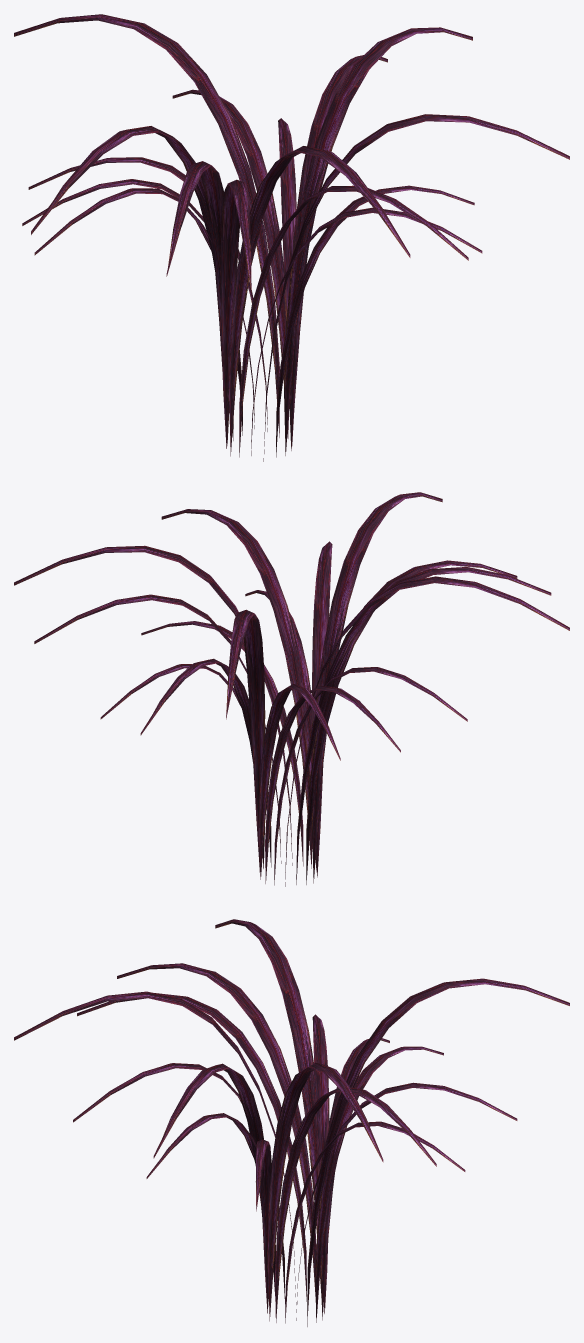
Rendered from finegrass_meadow_02.glb.
3 renders of one model, top to bottom at view 1: azimuth 30°, elevation 25°; view 2: azimuth 150°, elevation 25°; view 3: azimuth 270°, elevation 25°, orthographic. The views are drawn at different scales.
Parts seen in each view (by area): view 1: export; view 2: export; view 3: export.
Boxes of the visible parts, x1=… form: export: x1=14, y1=14, x2=569, y2=461; export: x1=14, y1=492, x2=569, y2=886; export: x1=14, y1=919, x2=569, y2=1326.
Size of the model in its own units: 1.51 by 0.9943 by 1.56.
1 material, 1 textured.
